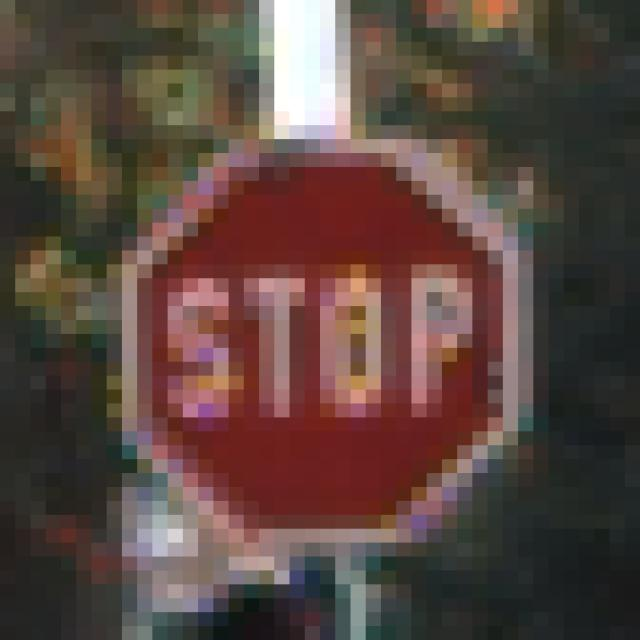STOP: (77, 85, 565, 572)
